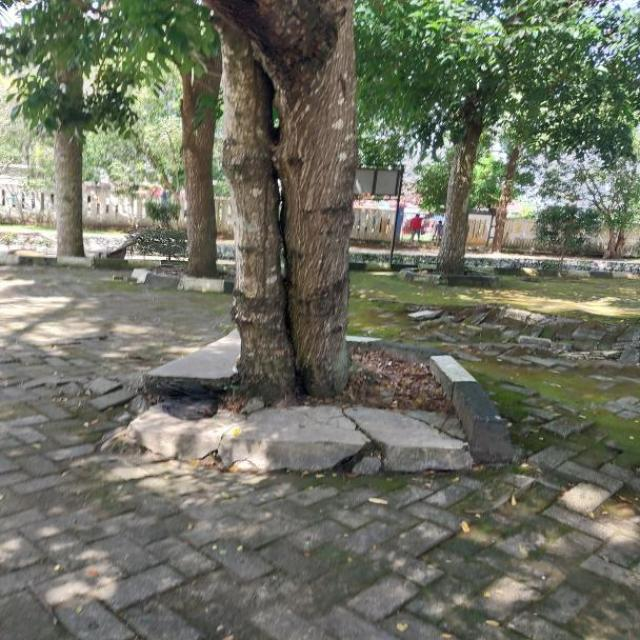tree ahead at: (197, 0, 375, 403)
